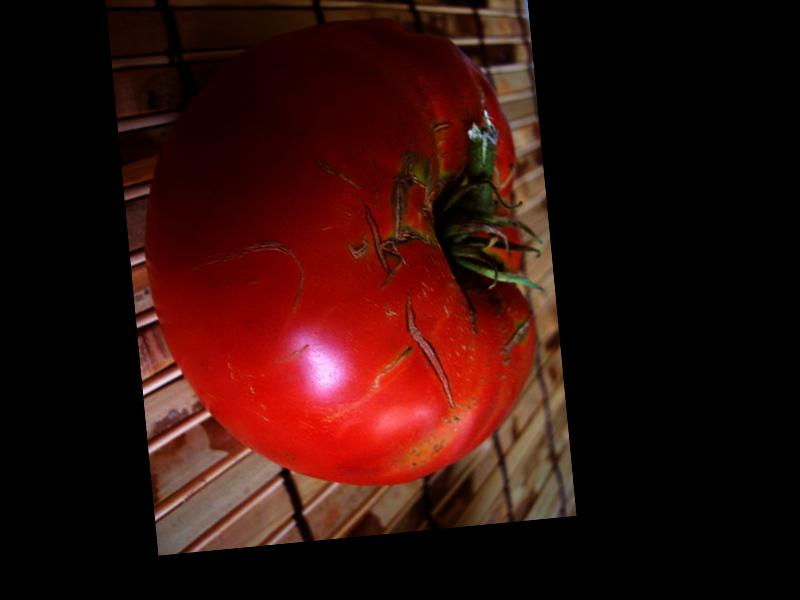Tomato: (131, 5, 549, 504)
